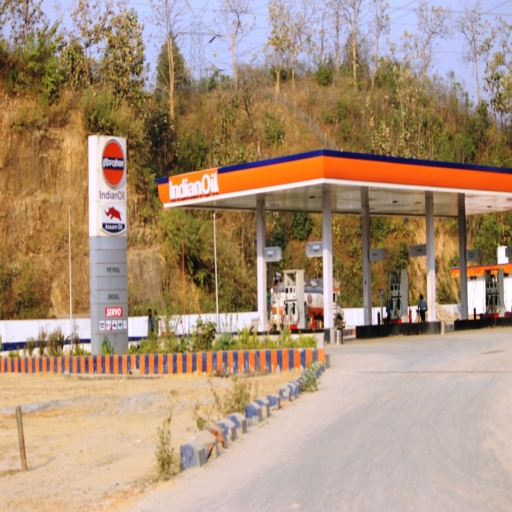roof: (159, 147, 510, 233)
